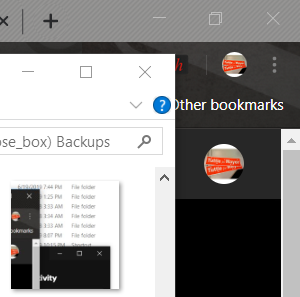close: (128, 57, 160, 86), (257, 7, 288, 30), (1, 12, 15, 28)
